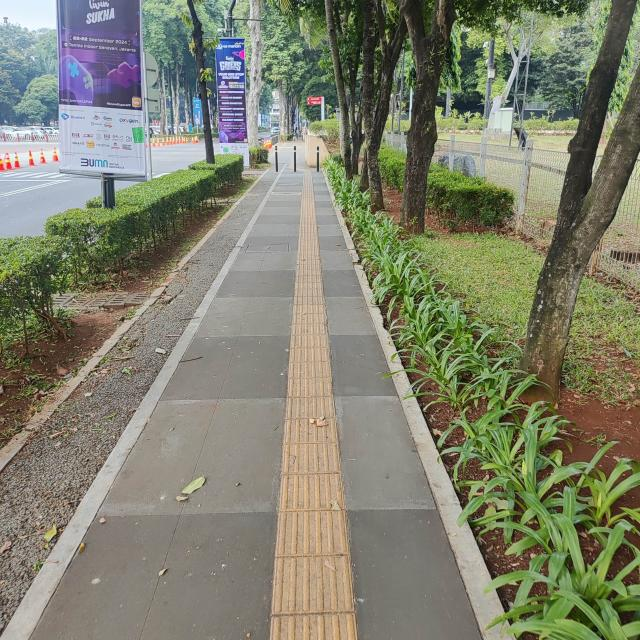lurus: (269, 212, 354, 640)
